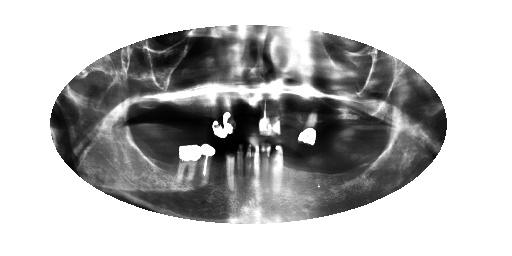Fillings: (176, 142, 202, 187), (296, 103, 318, 146)
Implant: (200, 143, 217, 185), (258, 96, 272, 137)
